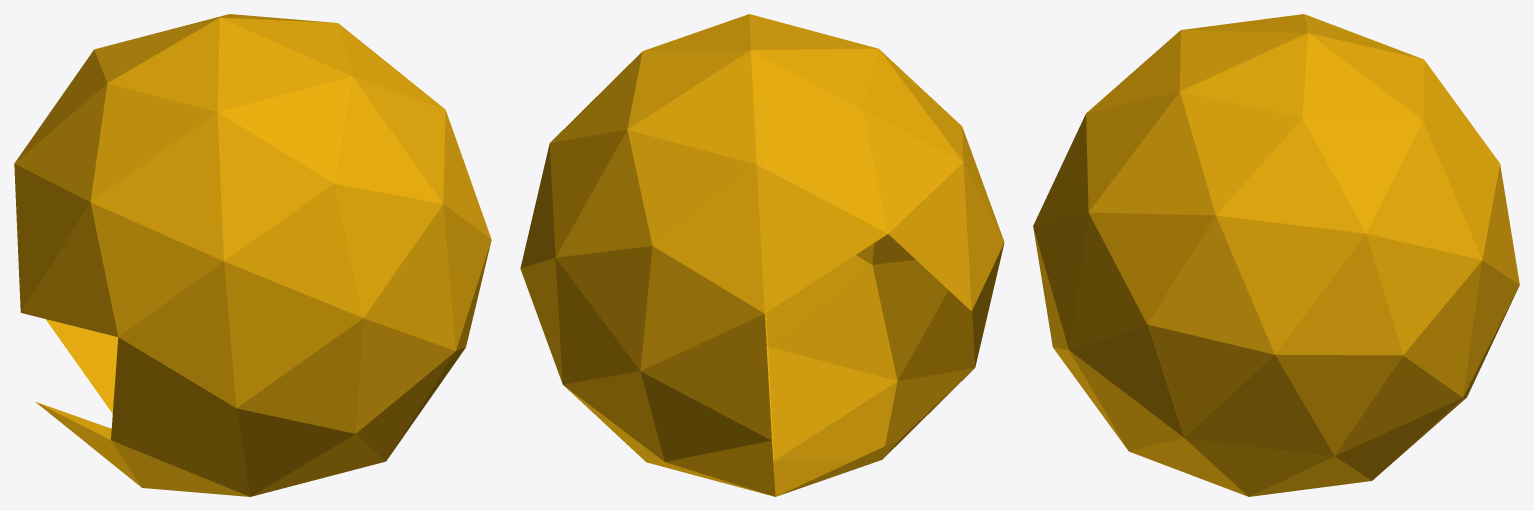
Rendered from debris8.fbx.
The picture shows the model from 3 angles, left to right: view 1: azimuth 30°, elevation 25°; view 2: azimuth 150°, elevation 25°; view 3: azimuth 270°, elevation 25°; orthographic projection. The views are drawn at different scales.
Parts seen in each view (by area): view 1: Icosphere; view 2: Icosphere; view 3: Icosphere.
Part boxes in pixels (x1=…): Icosphere: x1=14, y1=14, x2=491, y2=496; Icosphere: x1=520, y1=14, x2=1004, y2=496; Icosphere: x1=1033, y1=14, x2=1519, y2=496.
Bounding box in the file's own units: 200 × 198 × 198.
